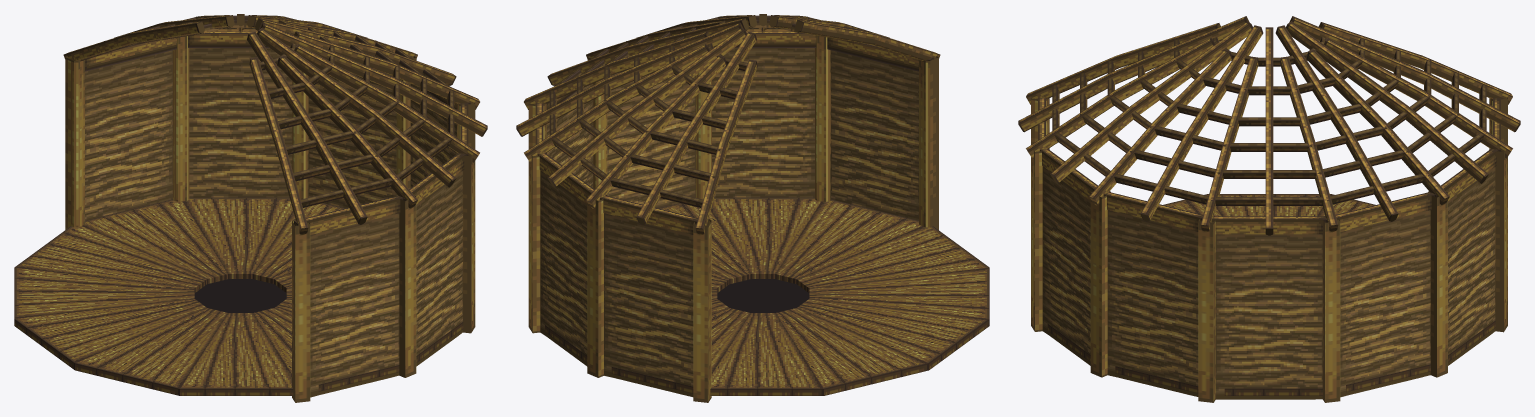
Rendered from EnvBdgMD_Island_A_Indoor_House_A.FBX.
3 views of the same model, side by side, from view 1: azimuth 30°, elevation 25°; view 2: azimuth 150°, elevation 25°; view 3: azimuth 270°, elevation 25° (orthographic).
Parts seen in each view (by area): view 1: EnvBdgMD_Island_A_Indoor_House_A; view 2: EnvBdgMD_Island_A_Indoor_House_A; view 3: EnvBdgMD_Island_A_Indoor_House_A.
Part boxes in pixels (x1,y1,x2,y2): EnvBdgMD_Island_A_Indoor_House_A: (14,14,487,402); EnvBdgMD_Island_A_Indoor_House_A: (516,14,989,402); EnvBdgMD_Island_A_Indoor_House_A: (1018,16,1520,402).
Size of the model in its own units: 1211 by 800 by 1264.
Materials: 1 (1 with a texture image).
